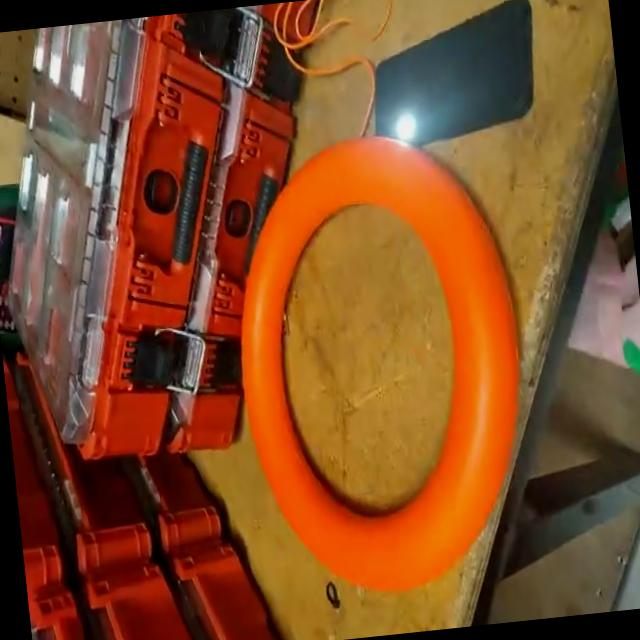note: (214, 121, 548, 608)
